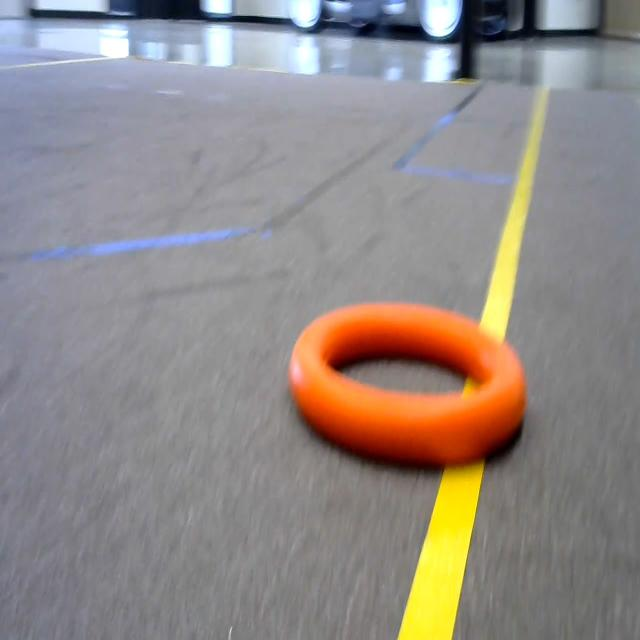note: (279, 270, 545, 482)
